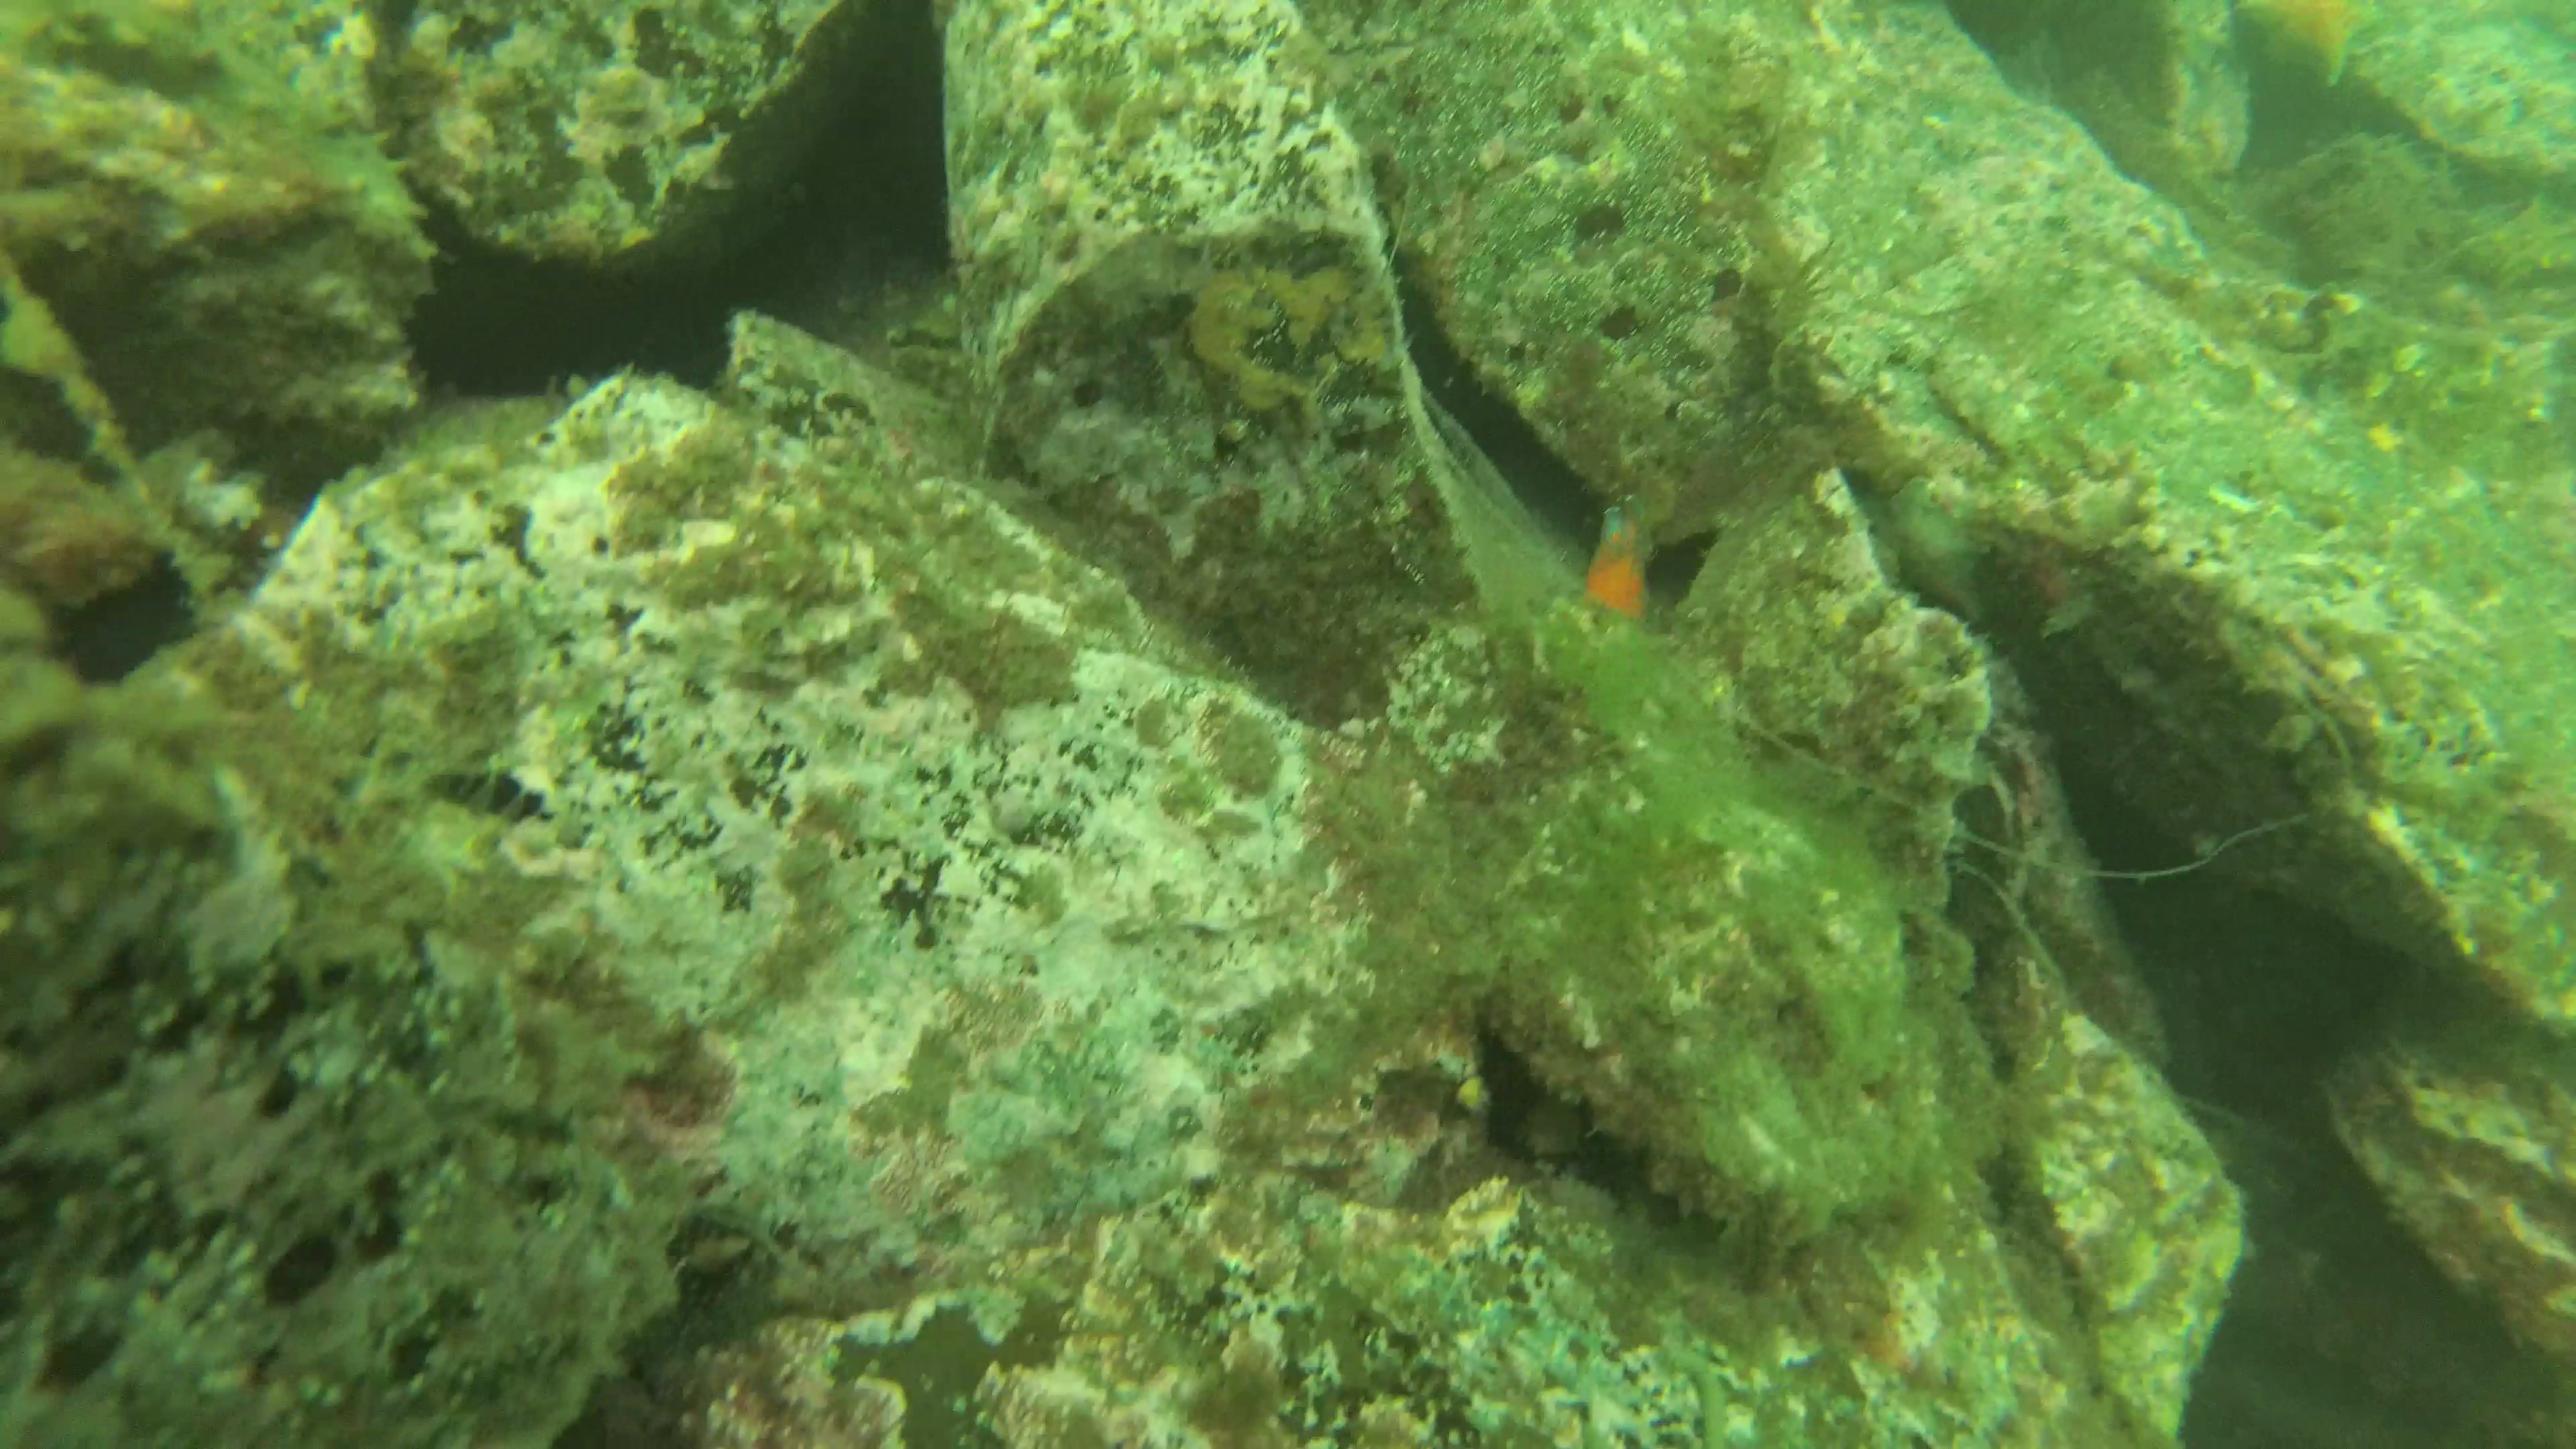holothurian: (0, 0, 442, 283)
starfish: (2243, 4, 2436, 94), (1583, 506, 1656, 655)
